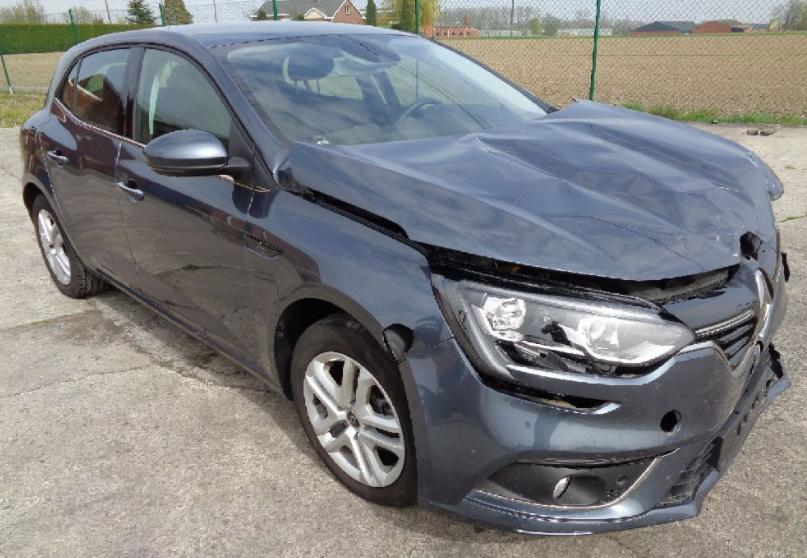Back-door: (39, 46, 142, 295)
Back-wheel: (33, 197, 101, 296)
Back-window: (75, 50, 129, 134), (59, 63, 77, 108)
Fender: (243, 178, 455, 384)
Front-bumper: (399, 305, 792, 536)
Front-door: (120, 44, 273, 373)
Front-wheel: (292, 321, 420, 504)
Front-window: (135, 51, 247, 159)
Grille: (663, 227, 786, 367)
Headlight: (434, 260, 697, 382)
Hood: (274, 98, 783, 284)
Mirror: (143, 128, 265, 178)
Quarter-panel: (19, 107, 58, 217)
Rocker-panel: (84, 261, 288, 402)
Roof: (69, 19, 413, 54)
Windshield: (211, 33, 556, 142)
